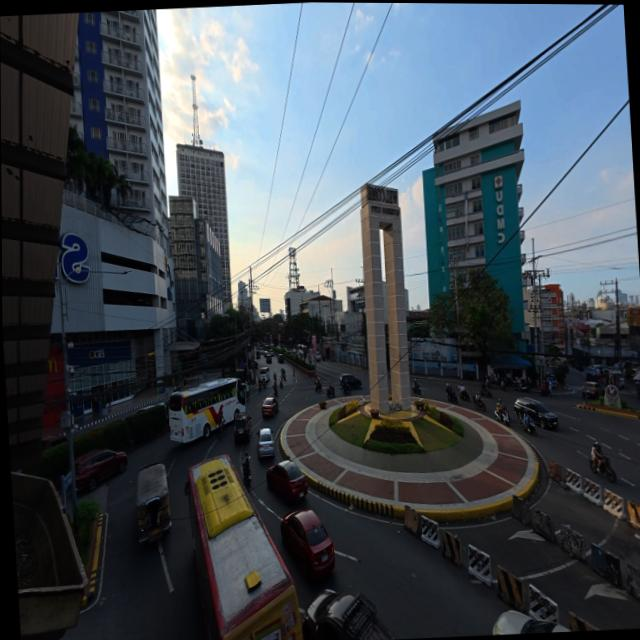Jeepneys: (136, 464, 170, 543)
bus: (186, 456, 302, 639), (168, 379, 244, 443)
car: (302, 589, 394, 639), (280, 509, 334, 579), (74, 450, 126, 491), (492, 611, 570, 635), (265, 461, 307, 502), (513, 397, 557, 429), (233, 412, 250, 443), (257, 428, 273, 459), (41, 434, 66, 450), (581, 382, 604, 398), (261, 397, 277, 417), (339, 374, 360, 389), (609, 370, 624, 388), (135, 405, 158, 414), (259, 367, 269, 384), (315, 352, 320, 361), (266, 355, 271, 364), (278, 354, 283, 363), (269, 349, 274, 357), (256, 350, 260, 360), (291, 349, 296, 356)
motorcycle: (588, 456, 616, 483), (520, 417, 535, 436), (494, 409, 509, 427), (473, 393, 485, 411), (242, 469, 251, 488), (504, 375, 516, 388), (517, 380, 529, 392), (480, 385, 491, 398), (447, 388, 457, 402), (341, 382, 350, 396), (459, 390, 469, 401), (412, 383, 421, 395), (539, 388, 551, 396), (500, 378, 507, 391), (173, 382, 181, 392), (326, 387, 334, 397), (486, 375, 496, 382), (314, 381, 321, 391), (272, 385, 277, 397), (257, 380, 261, 391), (636, 387, 639, 398), (278, 379, 282, 387)
